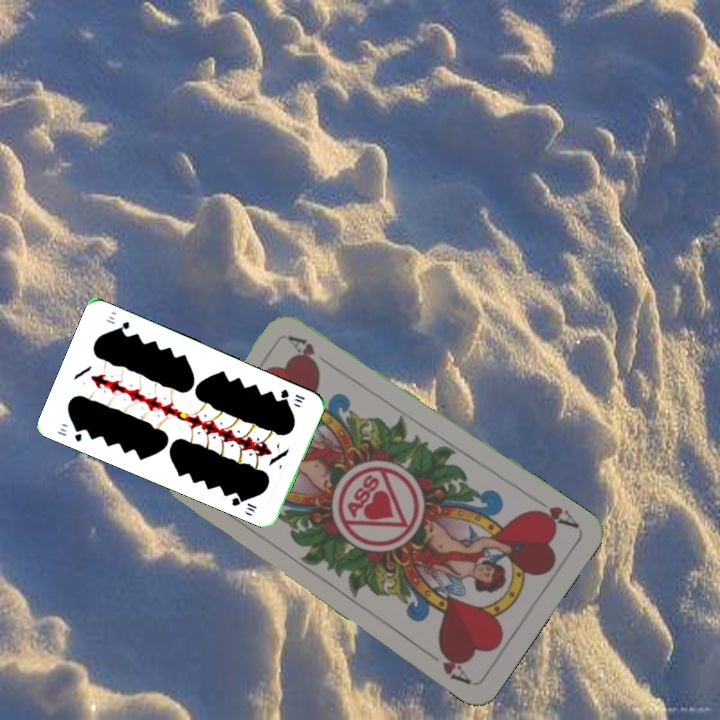G10: (53, 423, 86, 444), (276, 385, 307, 406)
HA: (526, 502, 582, 531)
